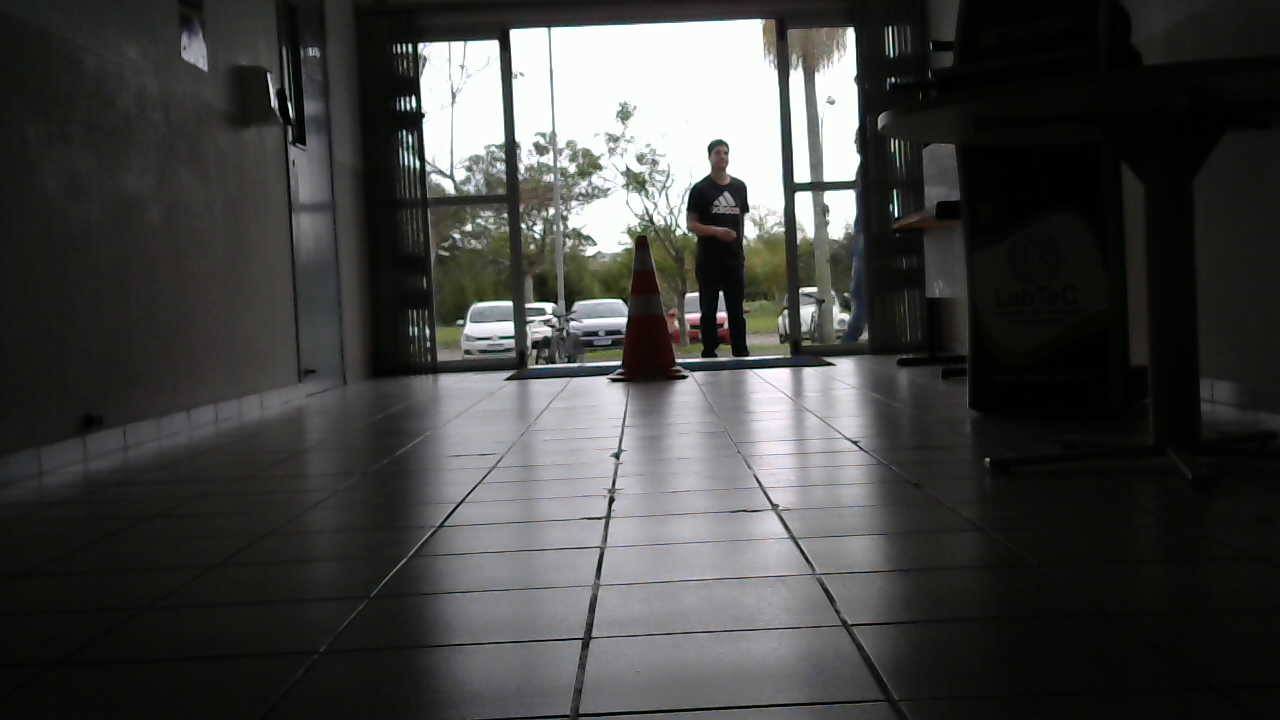cone: (611, 232, 689, 385)
